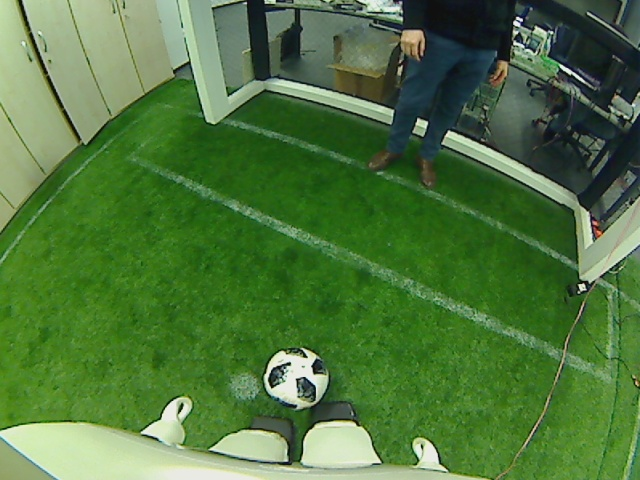ball: (260, 344, 330, 408)
